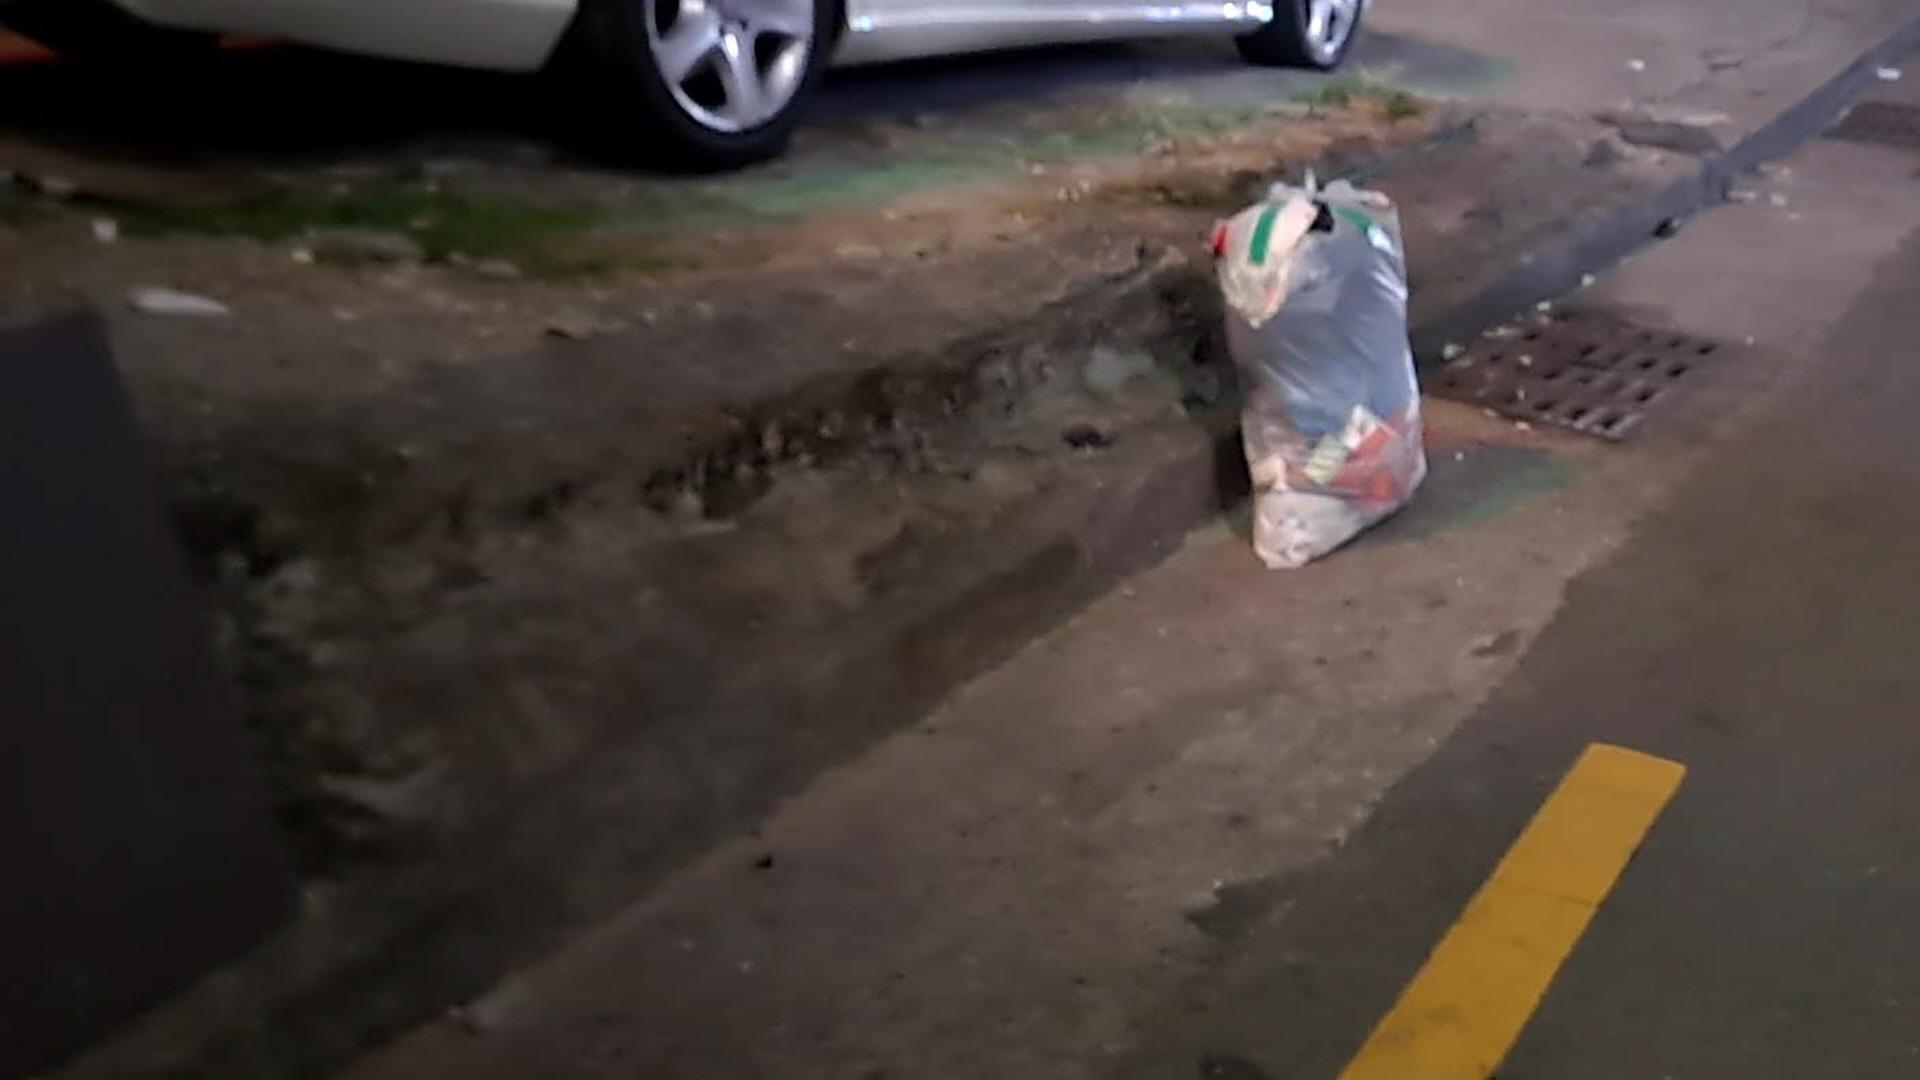white_bag: (1203, 160, 1444, 585)
